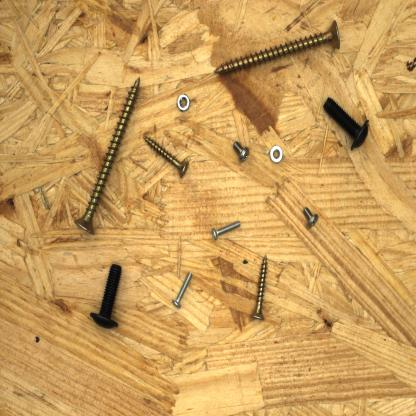screw: (73, 75, 143, 237), (213, 17, 342, 78), (87, 260, 126, 333), (324, 94, 370, 150), (142, 134, 192, 178), (248, 250, 270, 324), (171, 268, 193, 311), (209, 217, 242, 242), (231, 139, 252, 164), (301, 206, 320, 230)
